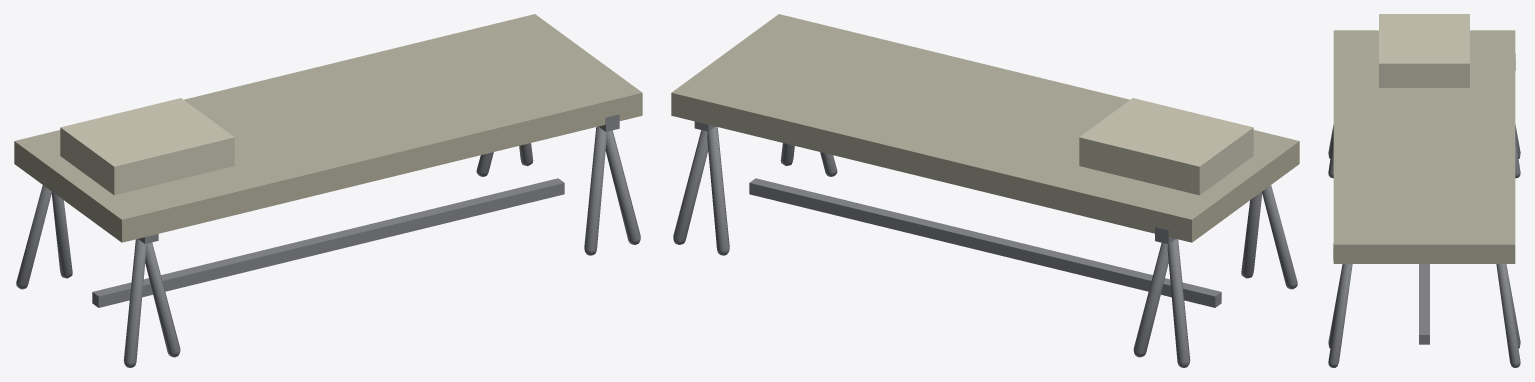
Rendered from armoured-column-and-field-camp-folding-cot-2d5f9b27__23725.glb.
3 renders of one model, left to right at view 1: azimuth 30°, elevation 25°; view 2: azimuth 150°, elevation 25°; view 3: azimuth 270°, elevation 25°, orthographic. The views are drawn at different scales.
Visible parts, largest first — view 1: folding-cot; view 2: folding-cot; view 3: folding-cot.
Boxes of the visible parts, left/top/right/bottom form: folding-cot: left=14, top=14, right=642, bottom=367; folding-cot: left=671, top=14, right=1299, bottom=367; folding-cot: left=1328, top=14, right=1520, bottom=367.
Bounding box in the file's own units: 1.9 × 0.6214 × 0.7199.
